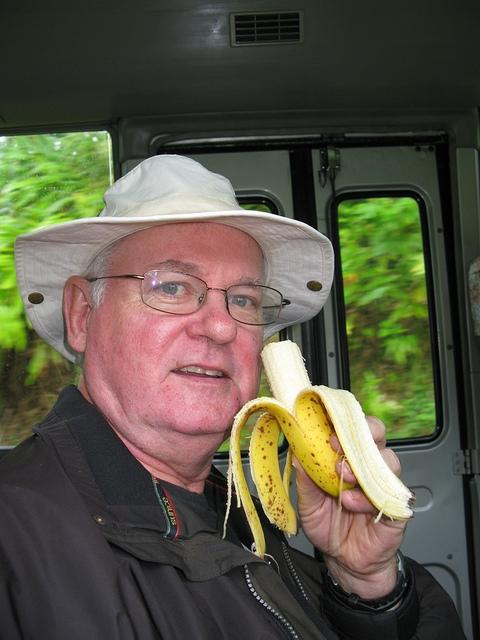banana: (222, 341, 416, 578)
